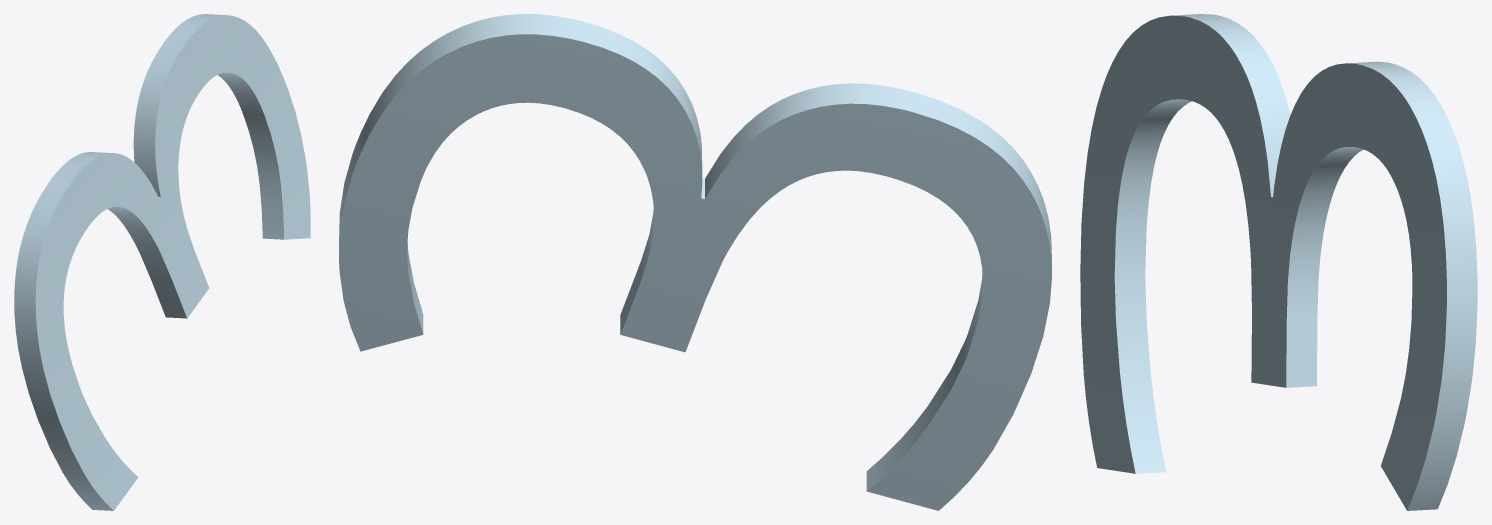
The model's file is Number_3.gltf.
3 views of the same model, side by side, from view 1: azimuth 30°, elevation 25°; view 2: azimuth 150°, elevation 25°; view 3: azimuth 270°, elevation 25° (orthographic). The views are drawn at different scales.
Visible parts, largest first — view 1: Sub_8_Cell_1_3_Number_3; view 2: Sub_8_Cell_1_3_Number_3; view 3: Sub_8_Cell_1_3_Number_3.
Part boxes in pixels (left/top/right/bottom): Sub_8_Cell_1_3_Number_3: left=14, top=14, right=310, bottom=510; Sub_8_Cell_1_3_Number_3: left=339, top=14, right=1051, bottom=510; Sub_8_Cell_1_3_Number_3: left=1080, top=14, right=1477, bottom=510.
Size of the model in its own units: 0.0233 by 0.0207 by 0.014.
